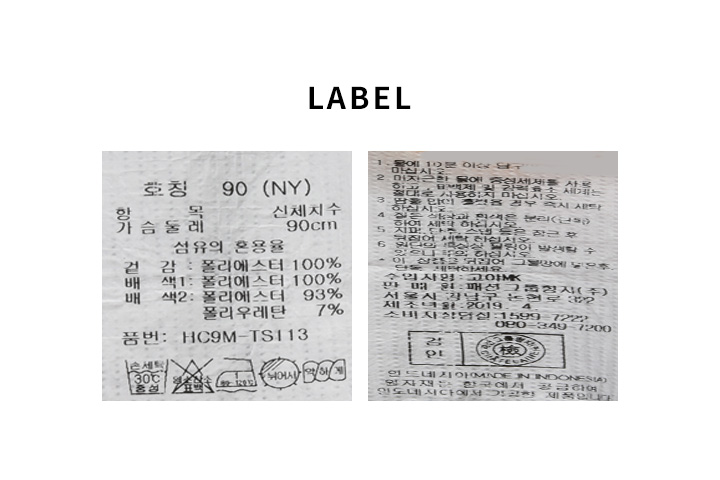KR_flat_dry_in_shade: (258, 355, 302, 389)
KR_gentle_wring: (300, 357, 349, 386)
KR_hand_wash_30_neutral: (123, 355, 170, 397)
KR_iron_low_temp_with_cloth: (214, 355, 259, 394)
KR_no_bleach: (172, 355, 216, 397)
